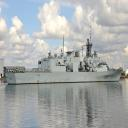Fragata: (5, 26, 126, 87)
